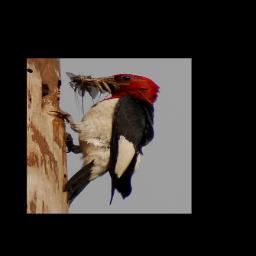Woodpecker: (49, 73, 160, 207)
